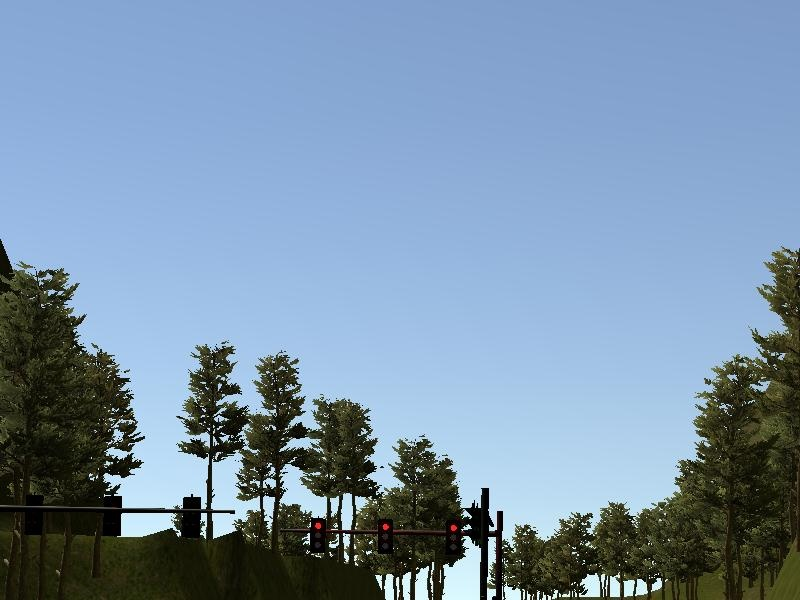Red: (377, 519, 394, 554), (446, 521, 462, 557), (310, 518, 325, 553)
